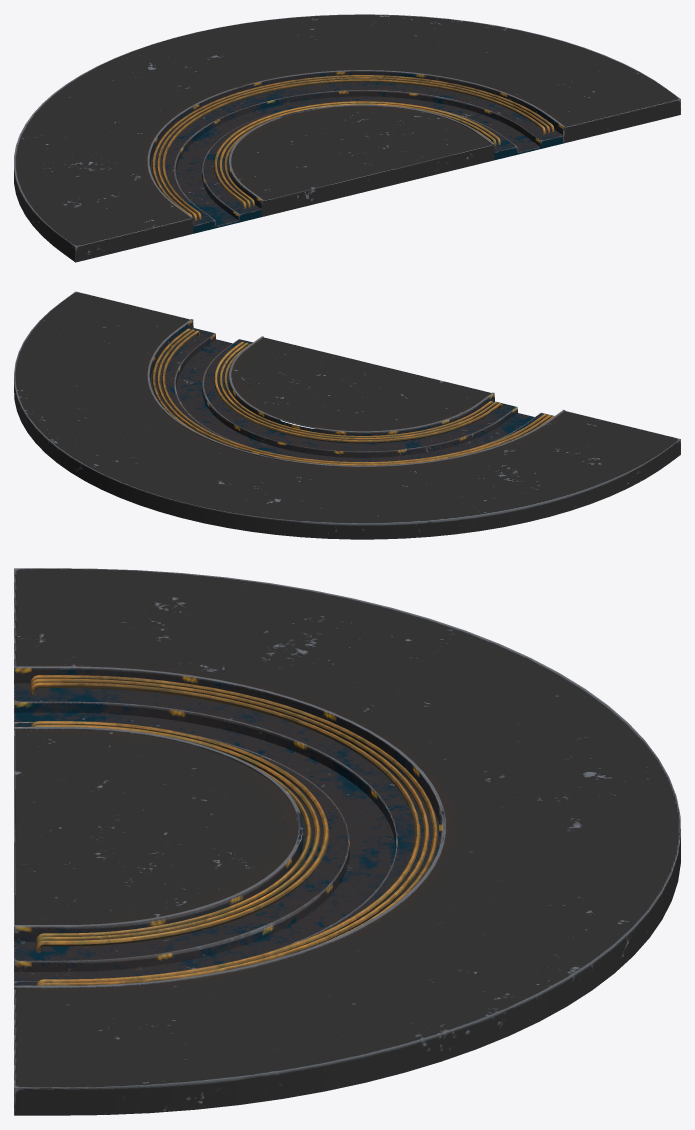
File: SM_Floor_2.fbx
3 renders of one model, top to bottom at view 1: azimuth 30°, elevation 25°; view 2: azimuth 150°, elevation 25°; view 3: azimuth 270°, elevation 25°, orthographic. The views are drawn at different scales.
Visible parts, largest first — view 1: SM_Floor_2; view 2: SM_Floor_2; view 3: SM_Floor_2.
Part boxes in pixels (<box>): SM_Floor_2: <box>14,14,680,262</box>; SM_Floor_2: <box>14,291,680,539</box>; SM_Floor_2: <box>14,568,680,1115</box>.
Size of the model in its own units: 10101 by 262 by 5481.
